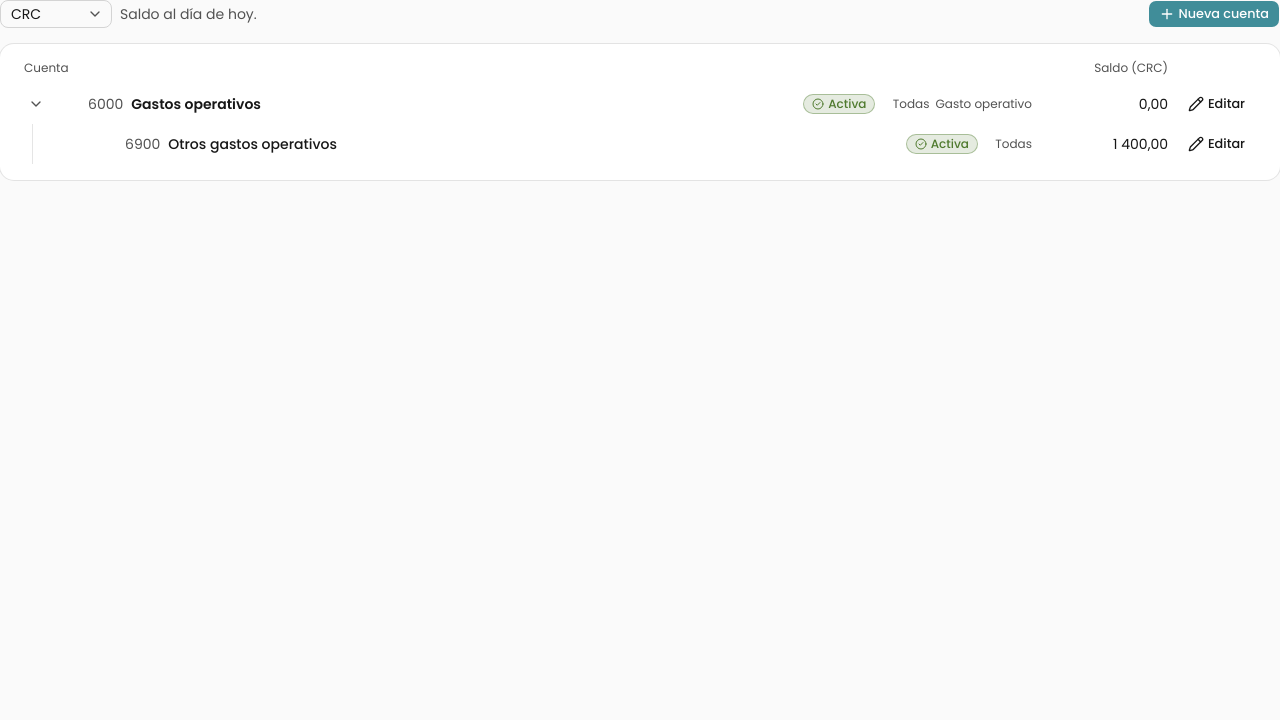
Test: FinanceAccountsTree — alta de una cuenta hija › exige que el código empiece por el dígito de la clase heredada
This screenshot has width=1280, height=720.
Click the button "Nueva cuenta" at (1214, 14), box [1148,0,1279,28]
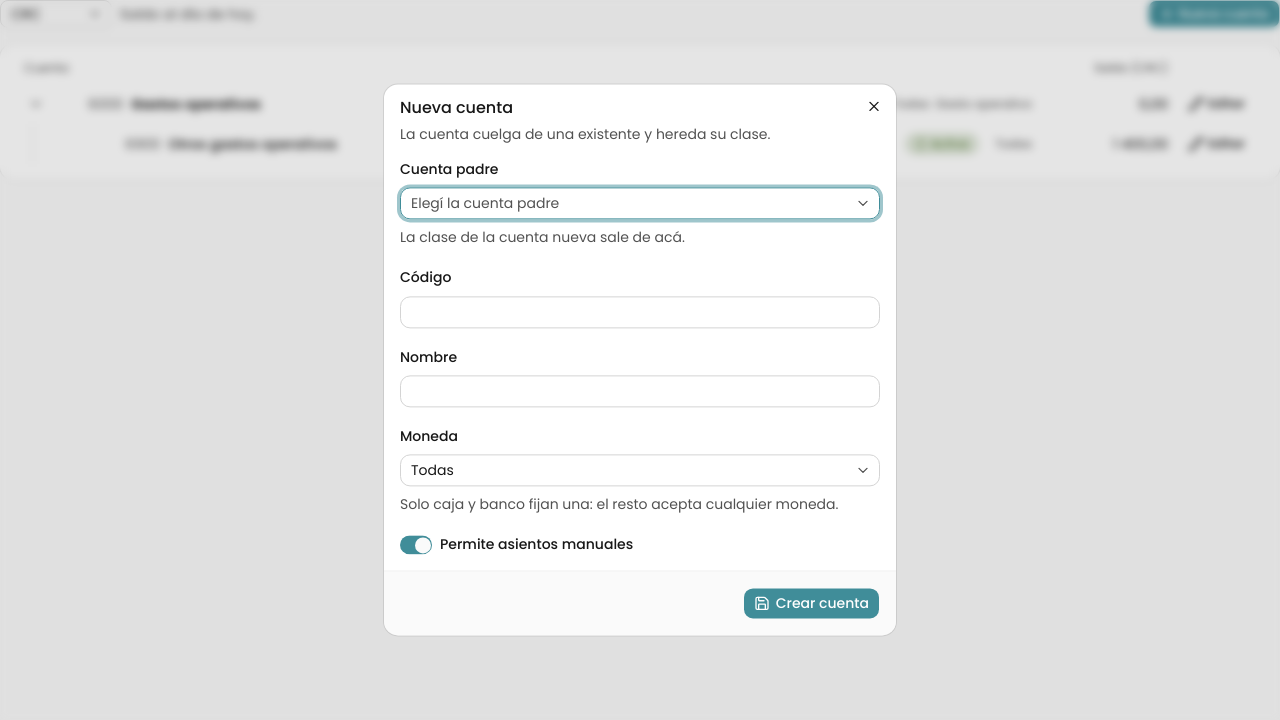
Now the dialog is shown, box [384,84,896,636]
Click the dropdown labelled "Elegí la cuenta padre" at (485, 204), box [400,188,880,220]
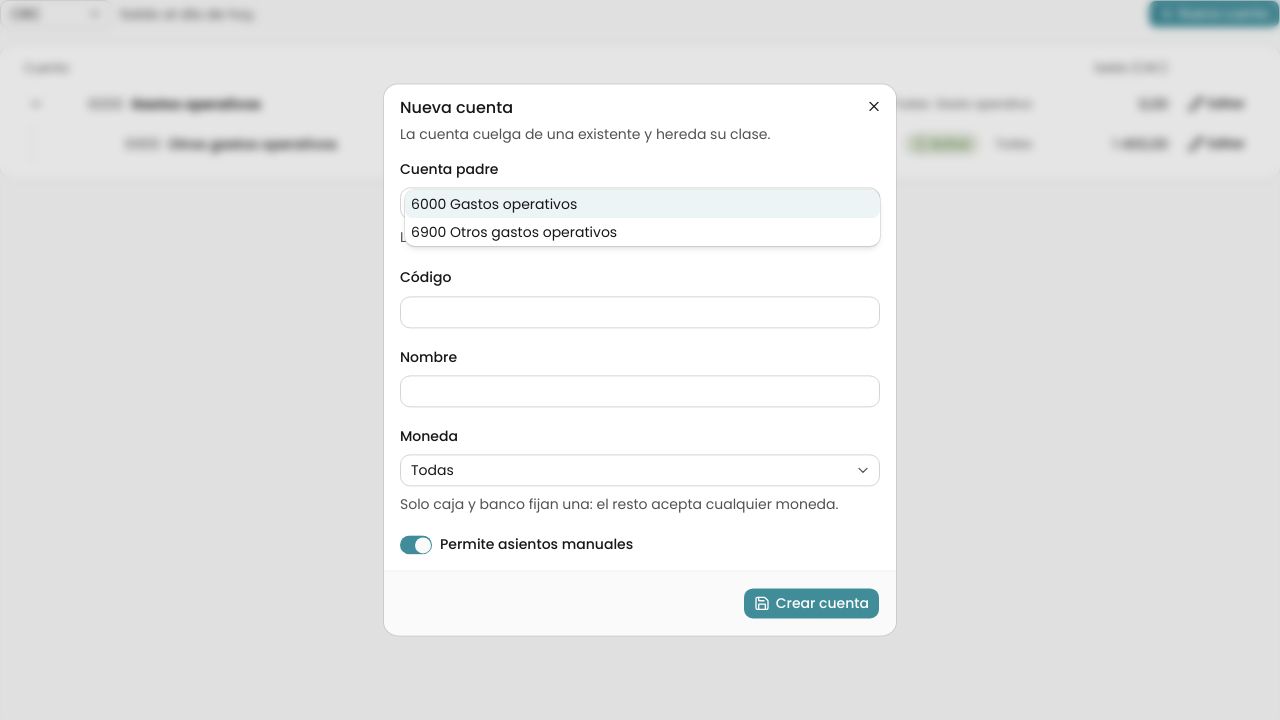
Click the option "6000 Gastos operativos" at (494, 204), box [405,190,880,218]
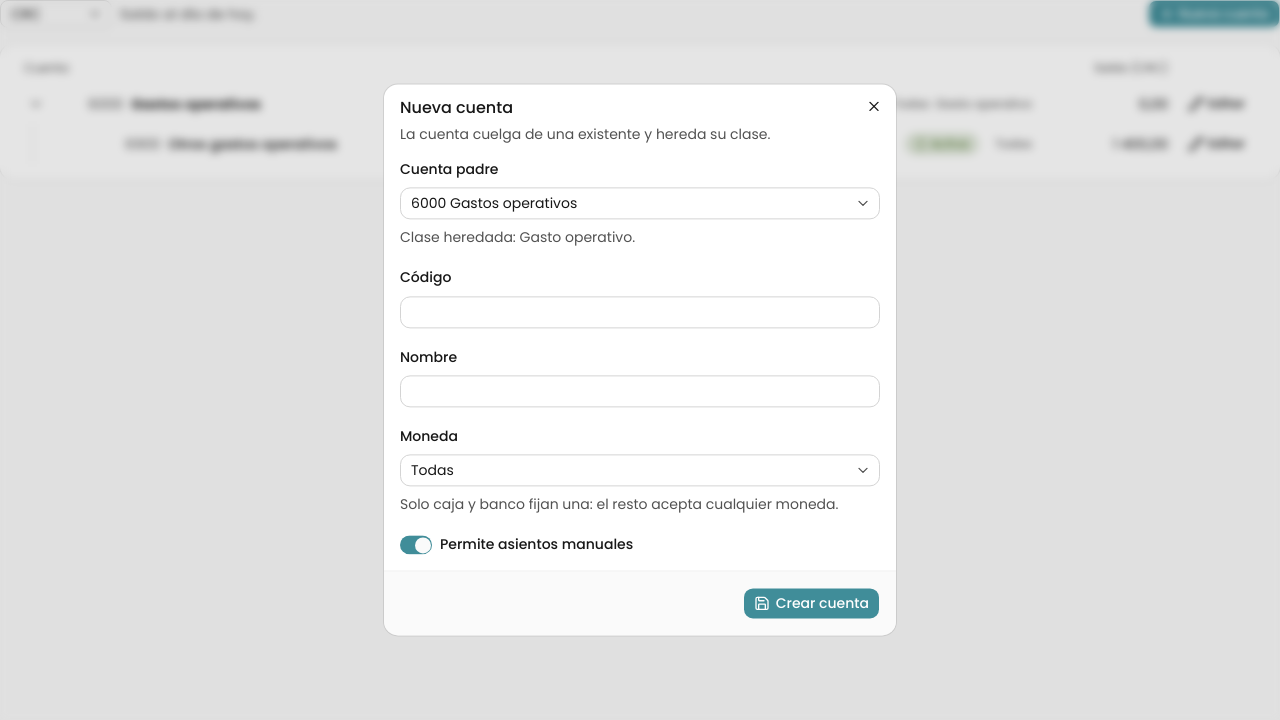
Type "1901" into the field labelled "Código" at (640, 312), box [400,296,880,328]
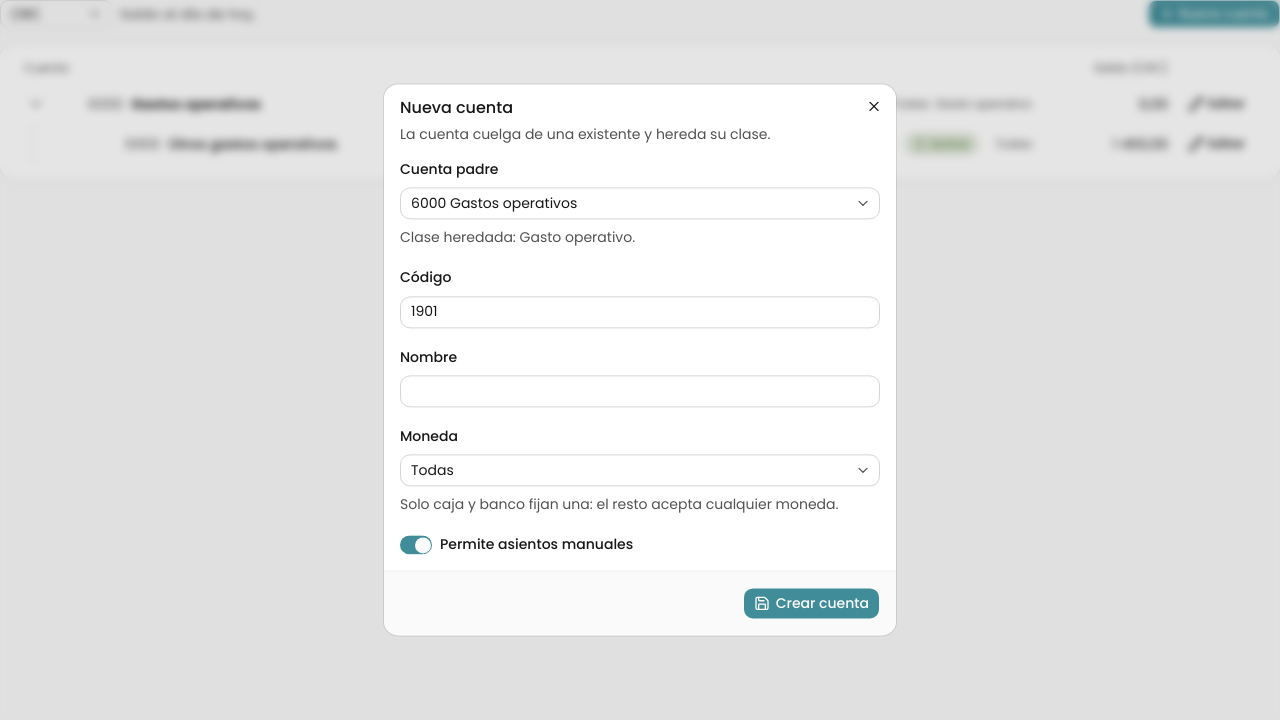
Type "Legales" into the field labelled "Nombre" at (640, 391), box [400,375,880,407]
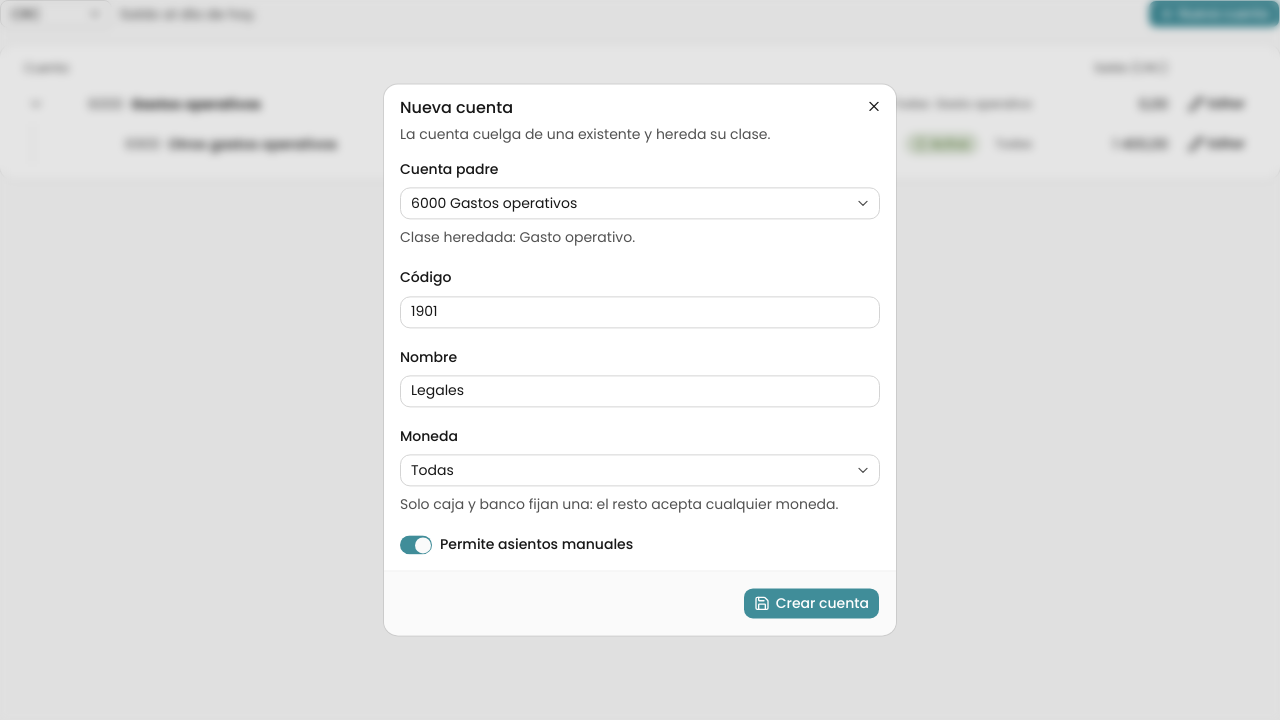
Click the button "Crear cuenta" at (811, 604), box [743,588,880,620]
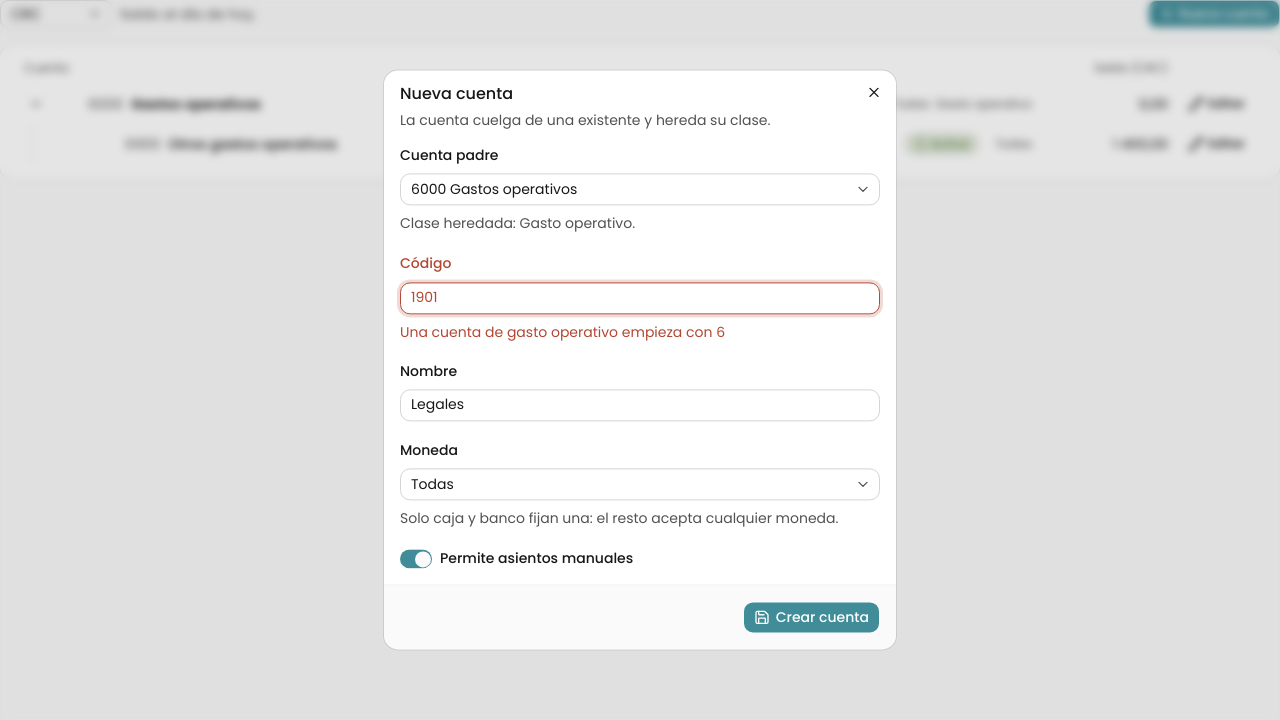
Now the text "Una cuenta de gasto operativo empieza con 6" is shown, box [400,322,725,342]
